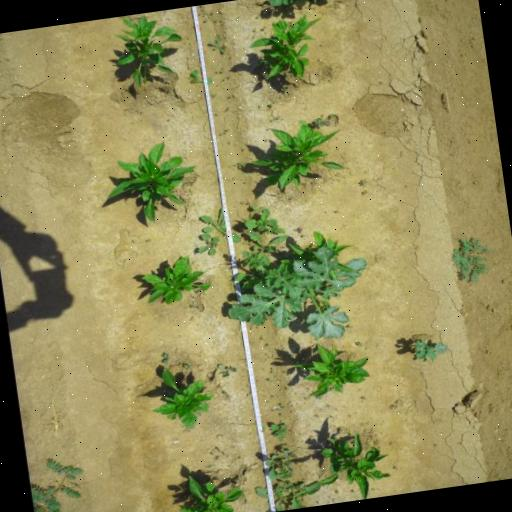plant: (96, 136, 200, 229), (242, 10, 330, 88), (110, 8, 190, 92), (251, 119, 343, 192), (308, 432, 392, 499), (290, 343, 371, 399), (149, 367, 217, 431), (136, 253, 215, 308), (171, 466, 248, 512)
weed: (221, 247, 366, 343), (26, 450, 100, 512), (446, 231, 501, 289), (252, 483, 322, 512), (200, 205, 243, 245), (409, 334, 451, 366), (242, 209, 287, 235), (246, 230, 291, 255), (270, 479, 305, 509), (261, 454, 295, 482), (263, 0, 346, 10), (196, 232, 222, 258), (186, 66, 212, 86), (268, 420, 290, 442), (216, 360, 238, 379), (206, 36, 226, 56), (282, 448, 296, 466), (310, 115, 325, 129), (249, 203, 266, 213), (232, 160, 248, 170), (160, 351, 170, 359), (160, 357, 170, 365), (268, 116, 281, 122), (280, 86, 288, 94), (182, 362, 190, 370), (360, 178, 368, 186), (194, 411, 203, 418), (355, 340, 362, 348), (216, 68, 224, 74), (268, 100, 276, 106), (260, 424, 266, 432), (329, 113, 336, 119), (279, 444, 289, 448), (248, 213, 254, 219), (279, 404, 285, 410), (188, 304, 196, 308), (266, 378, 274, 382), (362, 190, 368, 195), (144, 238, 151, 242), (392, 405, 397, 409), (240, 200, 244, 204), (265, 344, 269, 348)
